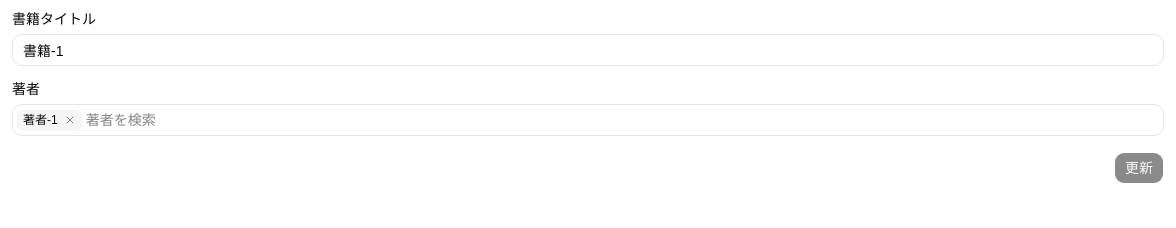
Test: BookEditForm › 書籍タイトルが空の場合はバリデーションエラーになり送信しない
Clear the field labelled "書籍タイトル" at (588, 50), box [12,34,1164,66]
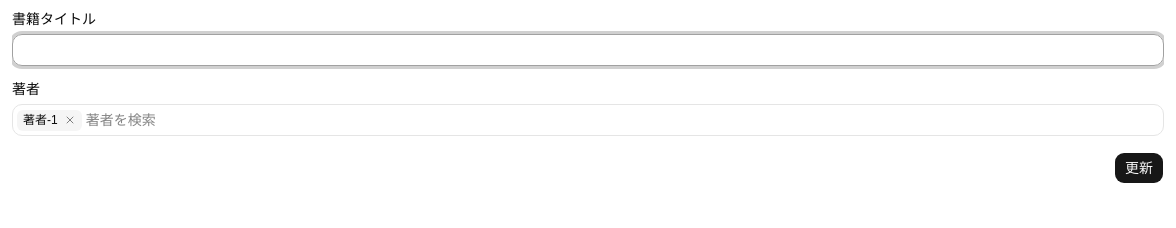
Click the button "更新" at (1139, 168), box [1114,152,1164,184]
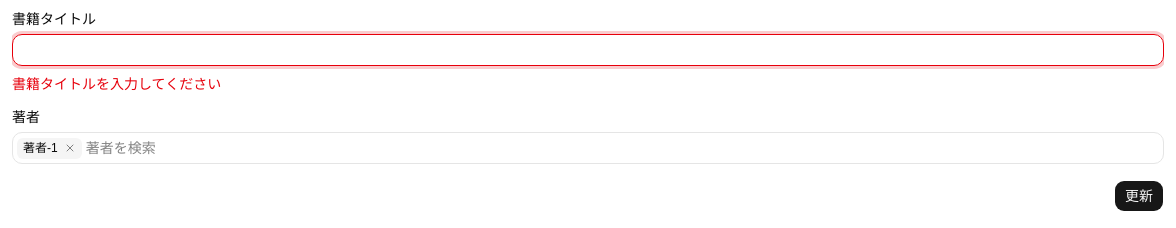
Result: the text "書籍タイトルを入力してください" is shown at [12,76,221,92]
